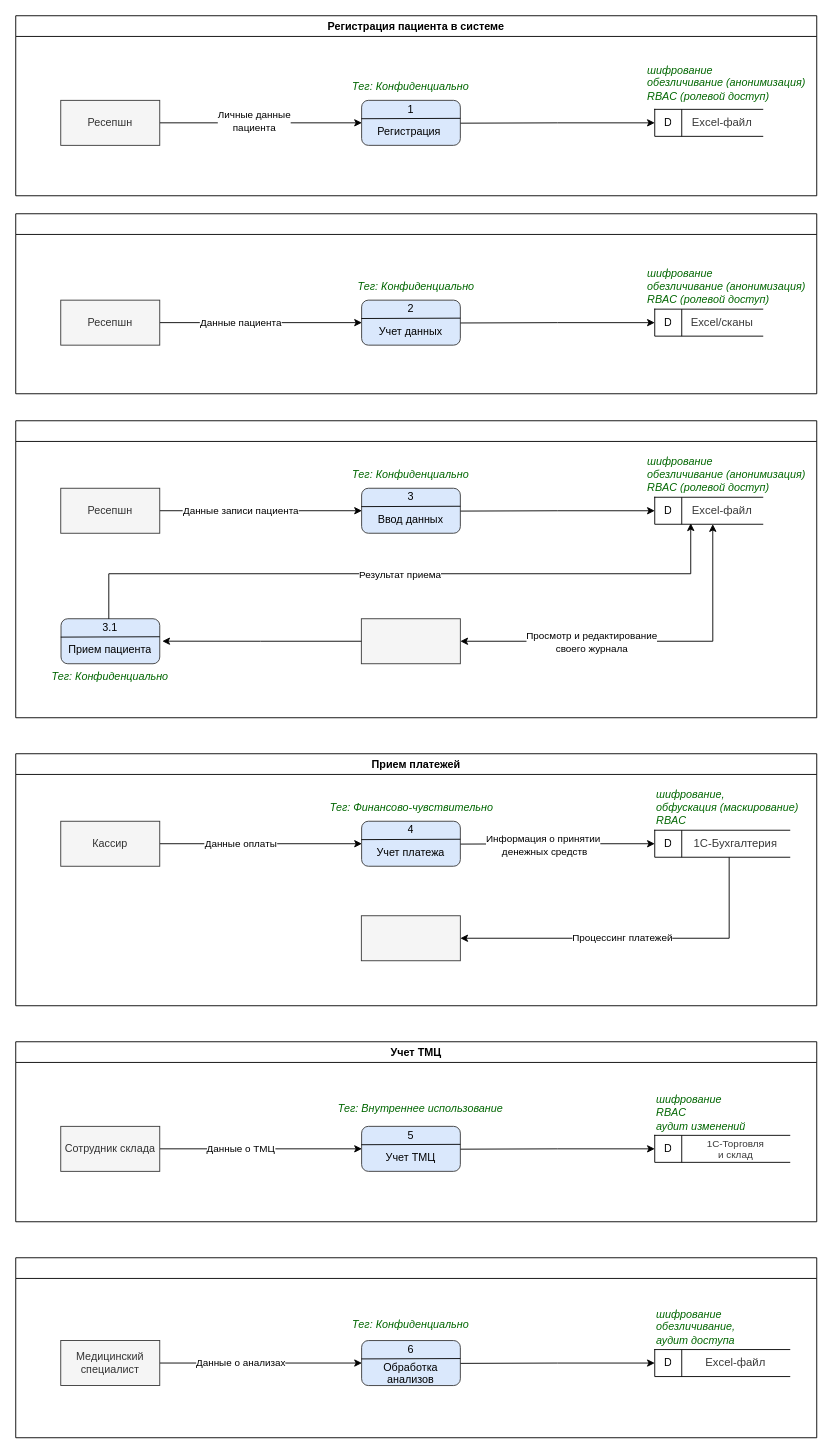
The diagram is 833 pixels wide and 1454 high, and some of its shapes have lost their labels. Each missing label, with the box of its shape:
Бухгалтер: (360, 915, 460, 961)
Доктор: (360, 618, 460, 664)
Запись пациента на прием и прием у врача: (15, 420, 817, 718)
Обработка медицинских данных: (15, 1257, 817, 1438)
Регистрация файла с данными пациента: (15, 213, 817, 394)
